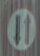Two way: (4, 3, 39, 50)
